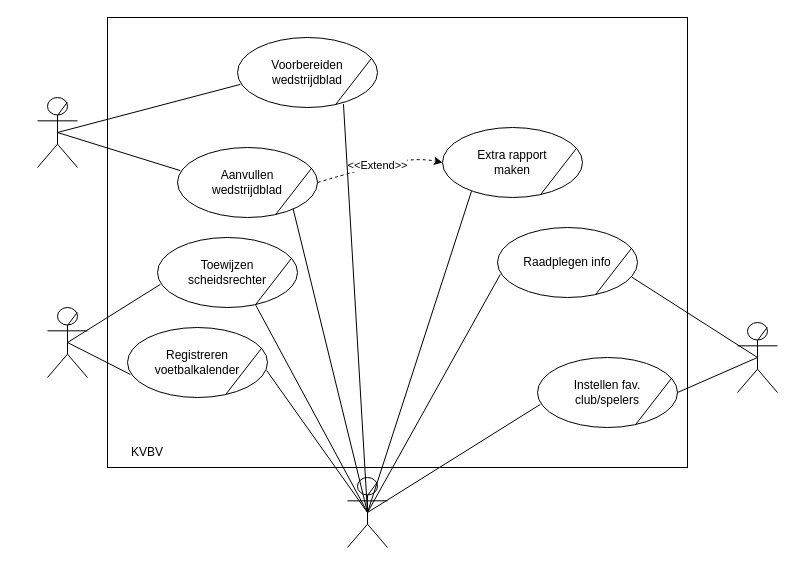
Image size: 803x586. Some labels were removed from this diagram. The shapes that lost their labels are listed below. From the top down, each one's box as (x1, y1, x2, y2) in pixels, then its label:
(36, 96, 78, 168): Scheidsrechter
(46, 306, 88, 378): Medewerker
(736, 322, 778, 392): Voetbalfan
(346, 476, 388, 548): DB
